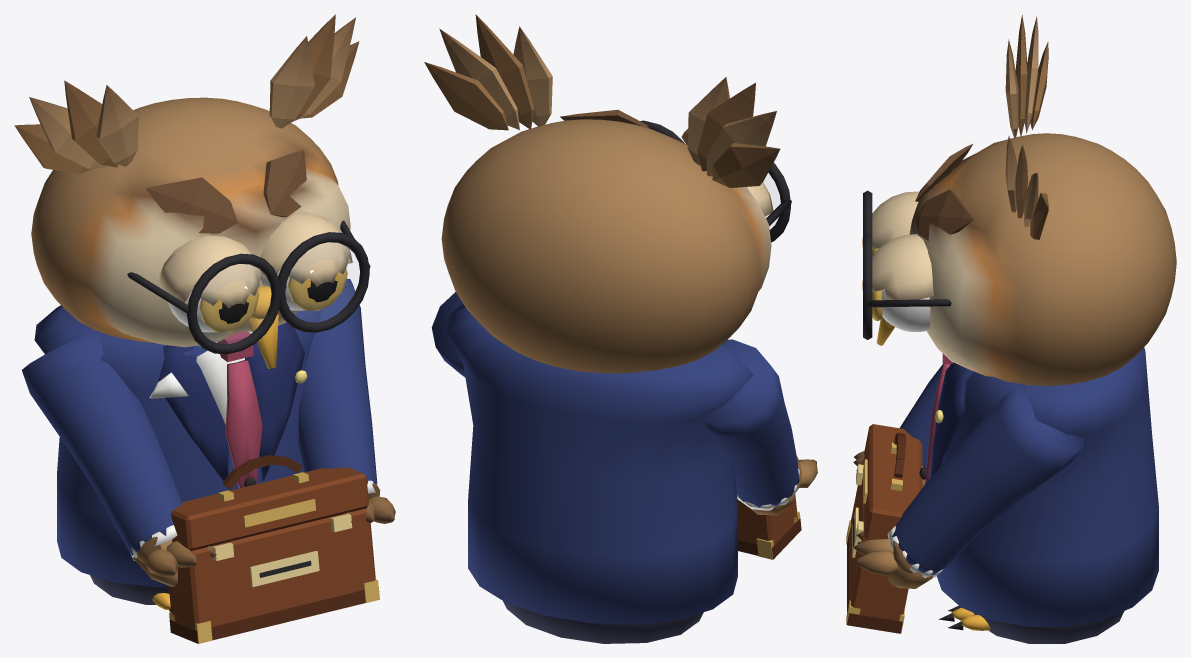
Rendered from owl.glb.
The picture shows the model from 3 angles, left to right: view 1: azimuth 30°, elevation 25°; view 2: azimuth 150°, elevation 25°; view 3: azimuth 270°, elevation 25°; orthographic projection. The views are drawn at different scales.
Visible parts, largest first — view 1: HeadMesh, CaseBody, Jacket, SleeveR, SleeveL, LidMesh, TuftMeshR, TuftMeshL, LidR, LapelR, LapelL, LidL (+14 smaller); view 2: Jacket, HeadMesh, SleeveR, TuftMeshL, TuftMeshR, Pants, CaseBody, SleeveL, MittR, RimR, BrowL; view 3: HeadMesh, Jacket, SleeveL, CaseBody, LidMesh, LidL, TuftMeshR, TuftMeshL, LapelL, MittL, Pants, LidR (+7 smaller).
Part boxes in pixels (bbox=[...]): HeadMesh: bbox=[31, 97, 350, 347]; CaseBody: bbox=[168, 455, 379, 643]; Jacket: bbox=[34, 305, 322, 586]; SleeveR: bbox=[22, 330, 182, 555]; SleeveL: bbox=[298, 278, 377, 484]; LidMesh: bbox=[170, 467, 368, 550]; TuftMeshR: bbox=[14, 80, 138, 174]; TuftMeshL: bbox=[269, 14, 359, 128]; LidR: bbox=[158, 235, 264, 308]; LapelR: bbox=[158, 345, 228, 481]; LapelL: bbox=[245, 322, 304, 480]; LidL: bbox=[260, 212, 352, 286]; Jacket: bbox=[445, 303, 753, 624]; HeadMesh: bbox=[441, 119, 771, 373]; SleeveR: bbox=[702, 339, 799, 507]; TuftMeshL: bbox=[424, 14, 552, 130]; TuftMeshR: bbox=[687, 77, 780, 187]; Pants: bbox=[503, 601, 703, 643]; CaseBody: bbox=[737, 494, 801, 559]; SleeveL: bbox=[431, 292, 465, 377]; MittR: bbox=[751, 456, 817, 515]; RimR: bbox=[768, 163, 790, 242]; BrowL: bbox=[560, 109, 649, 128]; HeadMesh: bbox=[909, 133, 1176, 385]; Jacket: bbox=[936, 347, 1158, 626]; SleeveL: bbox=[891, 383, 1084, 575]; CaseBody: bbox=[846, 432, 908, 633]; LidMesh: bbox=[863, 424, 922, 540]; LidL: bbox=[862, 234, 933, 299]; TuftMeshR: bbox=[1005, 15, 1048, 137]; TuftMeshL: bbox=[1005, 136, 1048, 239]; LapelL: bbox=[929, 362, 975, 477]; MittL: bbox=[853, 531, 932, 588]; Pants: bbox=[973, 611, 1124, 643]; LidR: bbox=[862, 191, 919, 249].
Bounding box in the file's own units: 1.75 × 2.59 × 1.48.
